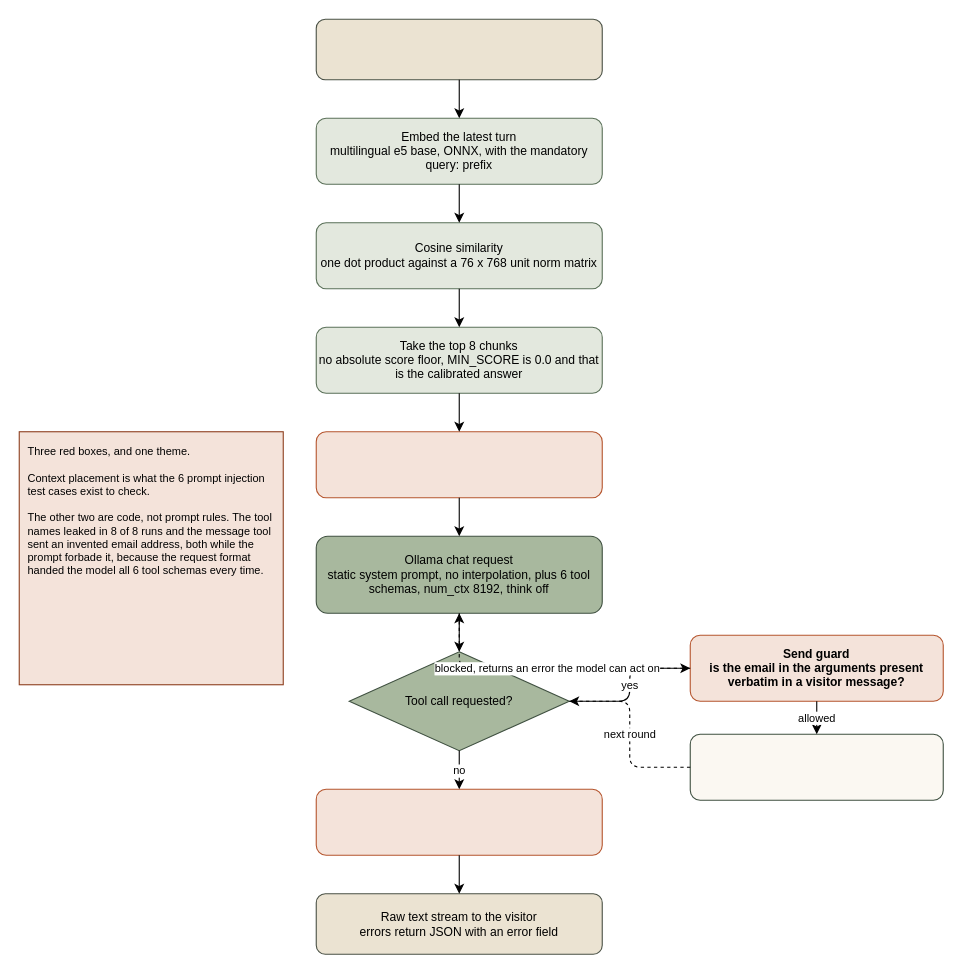
The diagram is 963 pixels wide and 974 high, and some of its shapes have lost their labels. Here are the shapes that lost their labels. From the top down, the centre of each, then its label:
point (458, 49): Visitor question plus up to 12 turns of history
point (458, 464): Append the context block to the VISITOR message never to the system prompt
point (816, 766): Run the tool, feed the result back max 2 rounds. 40 of 41 test cases use 1
point (458, 821): Output filter cut the stream at the first tool name or code fence
